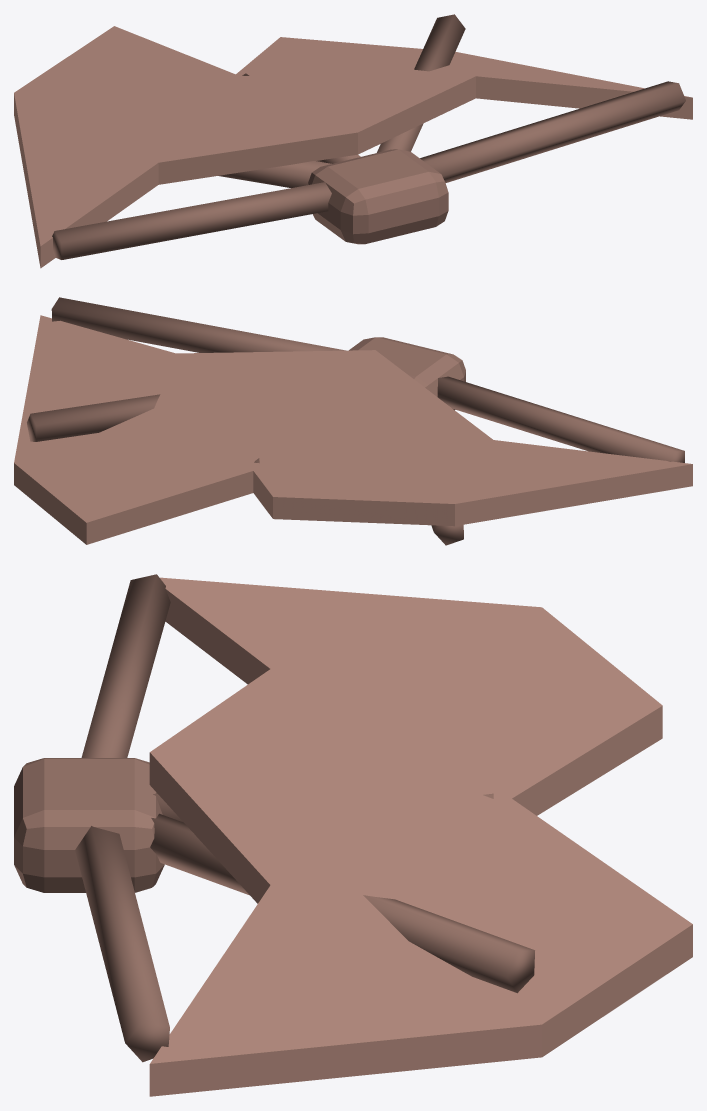
The model's file is wing_leather.glb.
3 renders of one model, top to bottom at view 1: azimuth 30°, elevation 25°; view 2: azimuth 150°, elevation 25°; view 3: azimuth 270°, elevation 25°, orthographic. The views are drawn at different scales.
Parts seen in each view (by area): view 1: model; view 2: model; view 3: model.
Part boxes in pixels (<box>): model: <box>14,14,692,268</box>; model: <box>14,297,692,545</box>; model: <box>14,574,692,1096</box>.
Size of the model in its own units: 0.37 by 0.051 by 0.225.
